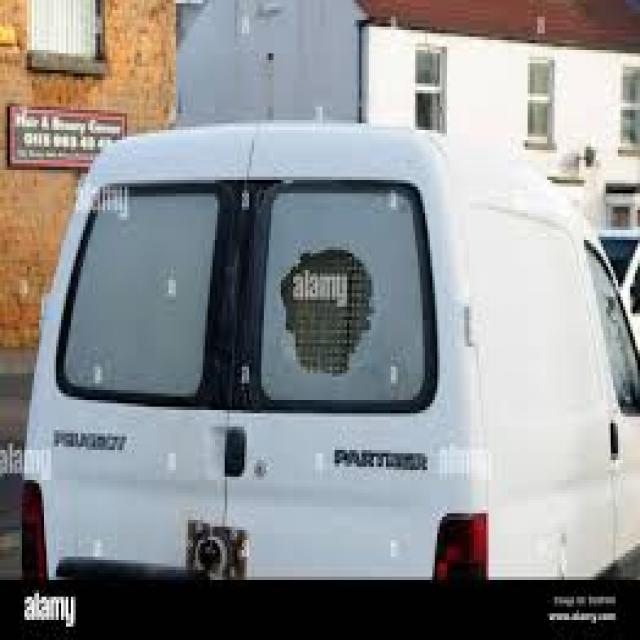damaged-window: (244, 177, 441, 406)
